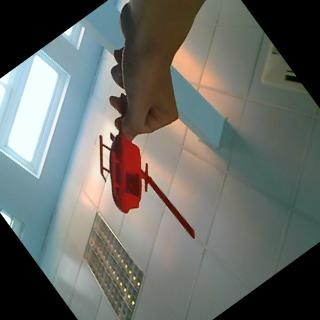Helicopter: (71, 115, 202, 266)
